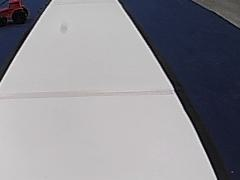Tracktor: (0, 0, 30, 25)
